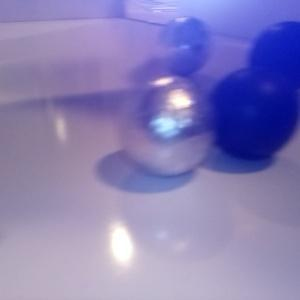alive_ball: (117, 75, 216, 179), (156, 17, 210, 74)
dead_ball: (205, 69, 295, 160), (249, 21, 300, 116)
